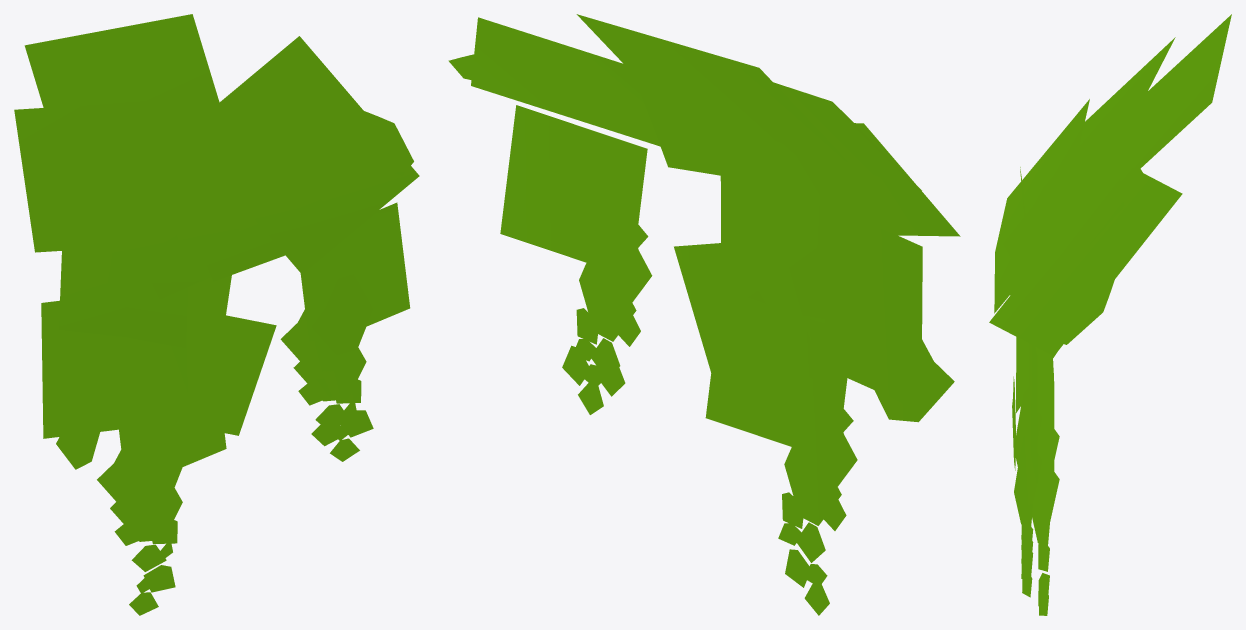
Rendered from prop_Vine5.glb.
3 views of the same model, side by side, from view 1: azimuth 30°, elevation 25°; view 2: azimuth 150°, elevation 25°; view 3: azimuth 270°, elevation 25° (orthographic). The views are drawn at different scales.
Parts seen in each view (by area): view 1: Prop_Vine5; view 2: Prop_Vine5; view 3: Prop_Vine5.
Part boxes in pixels (x1,y1,x2,y2): Prop_Vine5: [14, 14, 419, 615]; Prop_Vine5: [448, 14, 960, 615]; Prop_Vine5: [989, 14, 1231, 615].
Size of the model in its own units: 2.3 by 2.99 by 1.13.
Materials: 1 (1 with a texture image).
